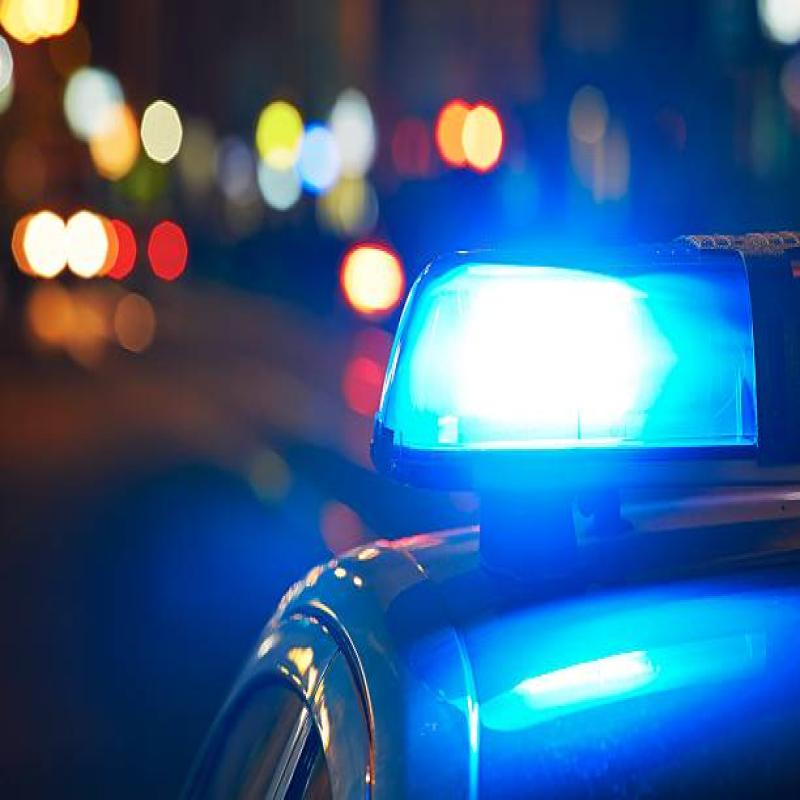AmbulanceSiren: (347, 164, 800, 500)
